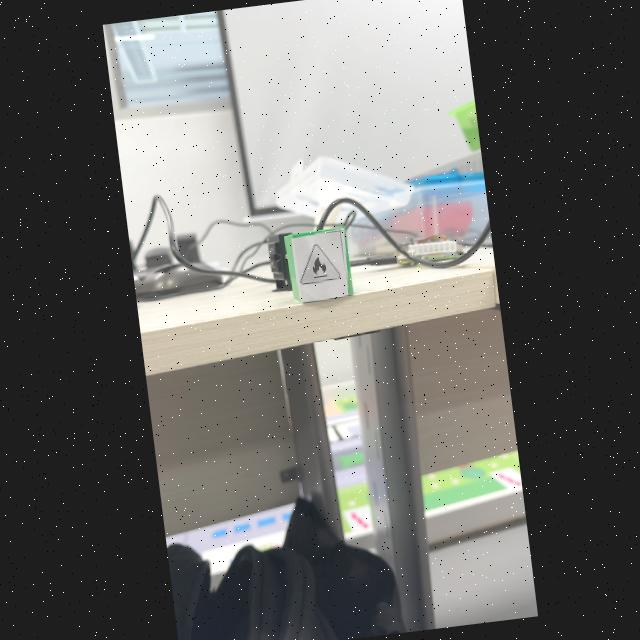Fire: (301, 244, 340, 284)
